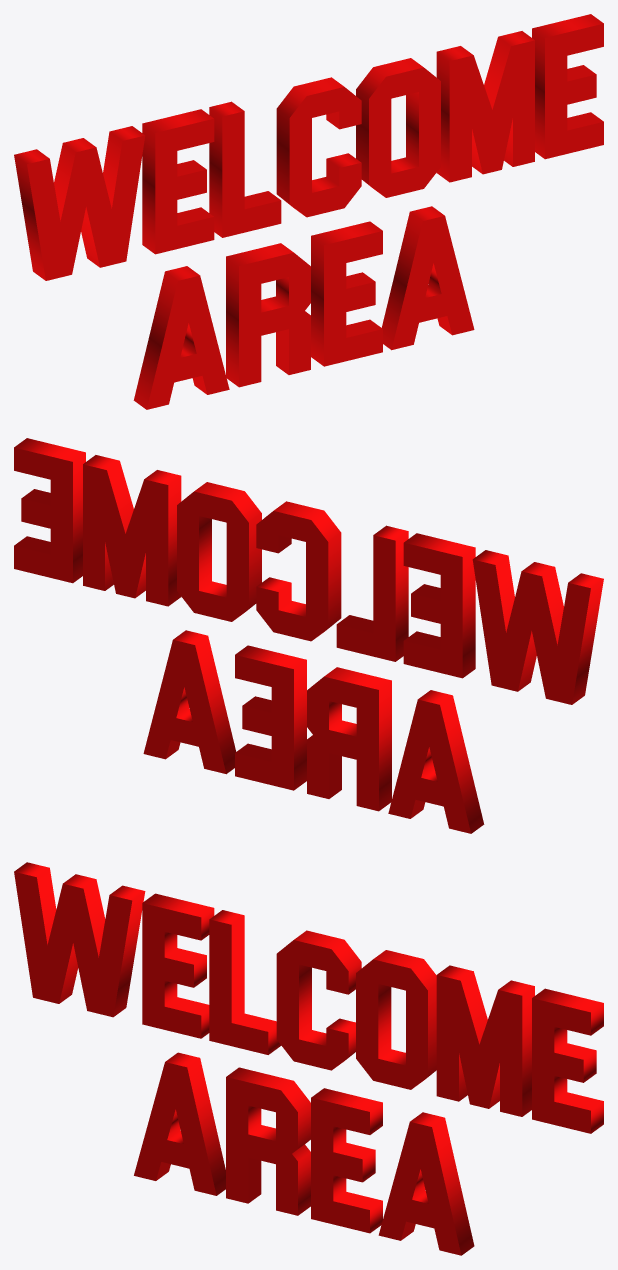
File: WELCOME-AREA.fbx
The picture shows the model from 3 angles, top to bottom: view 1: azimuth 30°, elevation 25°; view 2: azimuth 150°, elevation 25°; view 3: azimuth 330°, elevation 25°; orthographic projection.
Parts seen in each view (by area): view 1: alp_W, alp_M, alp_R__2_, alp_O, alp_C, alp_E, alp_A__2_, alp_E__2_, alp_A__3_, alp_E__1_, alp_L; view 2: alp_W, alp_M, alp_R__2_, alp_O, alp_C, alp_E, alp_A__2_, alp_E__2_, alp_A__3_, alp_E__1_, alp_L; view 3: alp_W, alp_M, alp_R__2_, alp_O, alp_E__1_, alp_E__2_, alp_A__3_, alp_A__2_, alp_C, alp_E, alp_L.
Boxes of the visible parts, x1,y1,x2,y2 form: alp_W: (14, 126, 145, 280); alp_M: (436, 31, 534, 182); alp_R__2_: (226, 243, 310, 387); alp_O: (356, 58, 440, 197); alp_C: (276, 77, 361, 217); alp_E: (142, 109, 214, 254); alp_A__2_: (133, 266, 229, 409); alp_E__2_: (311, 221, 382, 366); alp_A__3_: (381, 206, 474, 350); alp_E__1_: (532, 14, 603, 159); alp_L: (209, 101, 281, 237); alp_W: (472, 550, 603, 704); alp_M: (83, 455, 181, 606); alp_R__2_: (307, 667, 391, 811); alp_O: (177, 482, 261, 621); alp_C: (256, 501, 341, 641); alp_E: (403, 533, 475, 678); alp_A__2_: (388, 690, 484, 833); alp_E__2_: (235, 645, 306, 790); alp_A__3_: (143, 630, 236, 774); alp_E__1_: (14, 438, 85, 583); alp_L: (336, 525, 408, 661); alp_W: (14, 862, 145, 1017); alp_M: (436, 965, 534, 1116); alp_R__2_: (226, 1067, 310, 1215); alp_O: (356, 950, 436, 1089); alp_E__1_: (532, 988, 603, 1133); alp_E__2_: (311, 1088, 382, 1233); alp_A__3_: (378, 1112, 474, 1255); alp_A__2_: (134, 1052, 225, 1195); alp_C: (276, 930, 361, 1070); alp_E: (142, 893, 214, 1038); alp_L: (209, 910, 281, 1054).
Bounding box in the file's own units: 2.36 × 1.07 × 0.092.
